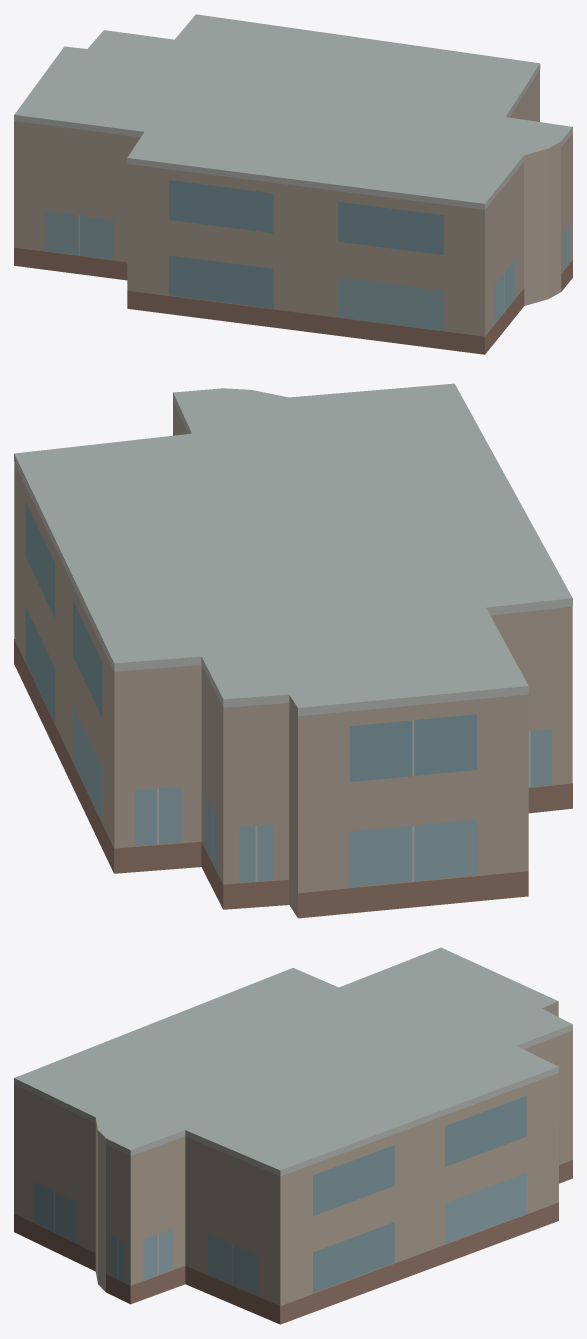
Rendered from survey-upis-32839791.glb.
The picture shows the model from 3 angles, top to bottom: view 1: azimuth 30°, elevation 25°; view 2: azimuth 150°, elevation 25°; view 3: azimuth 270°, elevation 25°; orthographic projection. The views are drawn at different scales.
Parts seen in each view (by area): view 1: survey-upis-32839791.tmp; view 2: survey-upis-32839791.tmp; view 3: survey-upis-32839791.tmp.
Part boxes in pixels (x1,y1,x2,y2): survey-upis-32839791.tmp: (14,14,572,354); survey-upis-32839791.tmp: (14,383,572,918); survey-upis-32839791.tmp: (14,947,572,1324).
Bounding box in the file's own units: 18.95 × 6.1 × 20.06.
